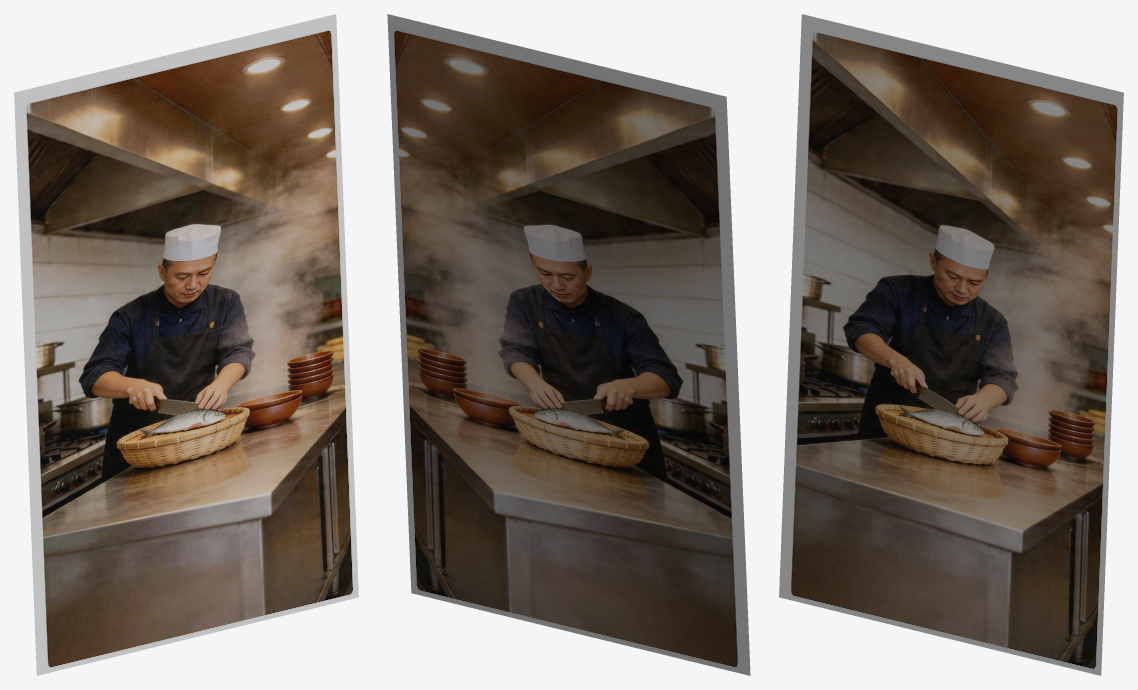
3 renders of one model, left to right at view 1: azimuth 30°, elevation 25°; view 2: azimuth 150°, elevation 25°; view 3: azimuth 330°, elevation 25°, orthographic. The views are drawn at different scales.
Visible parts, largest first — view 1: 平面; view 2: 平面; view 3: 平面.
Part boxes in pixels (x1=…): 平面: x1=14, y1=14, x2=358, y2=675; 平面: x1=387, y1=14, x2=750, y2=675; 平面: x1=779, y1=14, x2=1123, y2=675.
Bounding box in the file's own units: 4.14 × 6.97 × 0.5059.
1 material, 1 textured.
